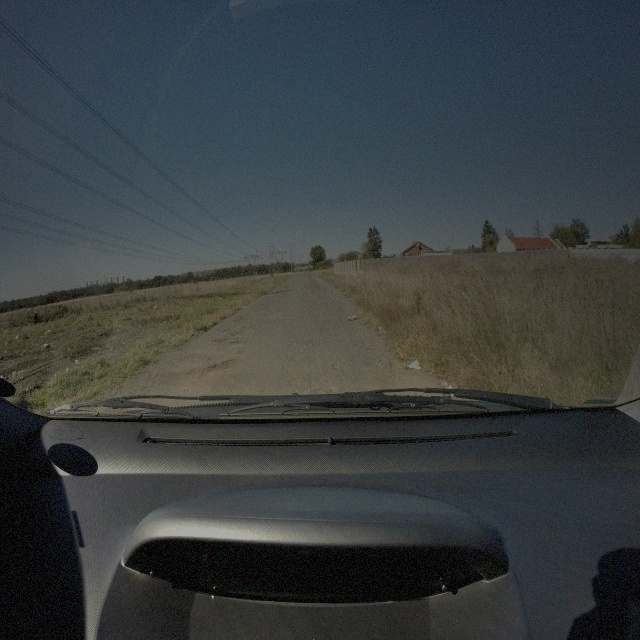pothole: (195, 356, 242, 374), (229, 338, 242, 349), (213, 335, 227, 343), (235, 314, 247, 323)
